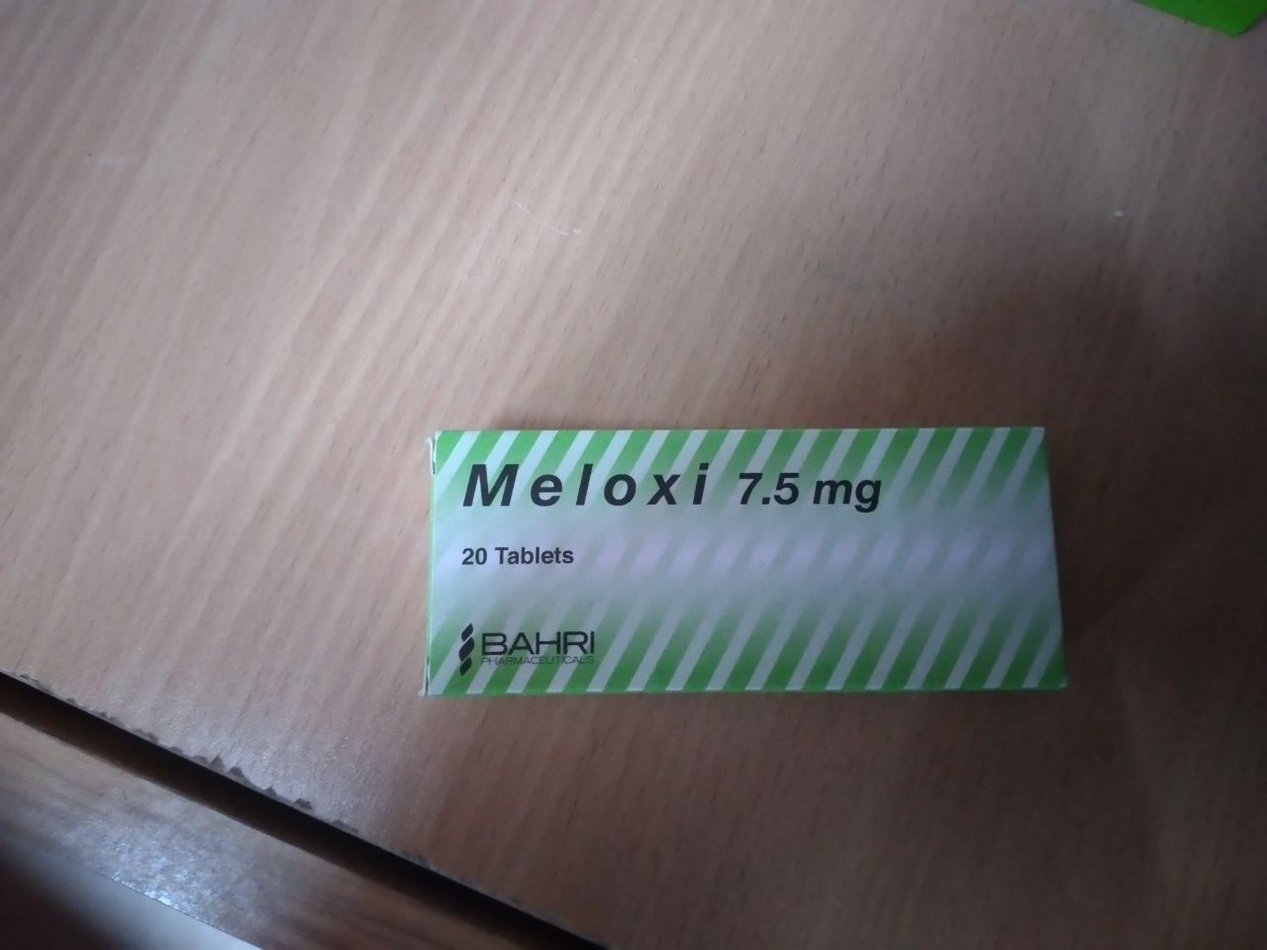Medicine: (416, 406, 1079, 720)
